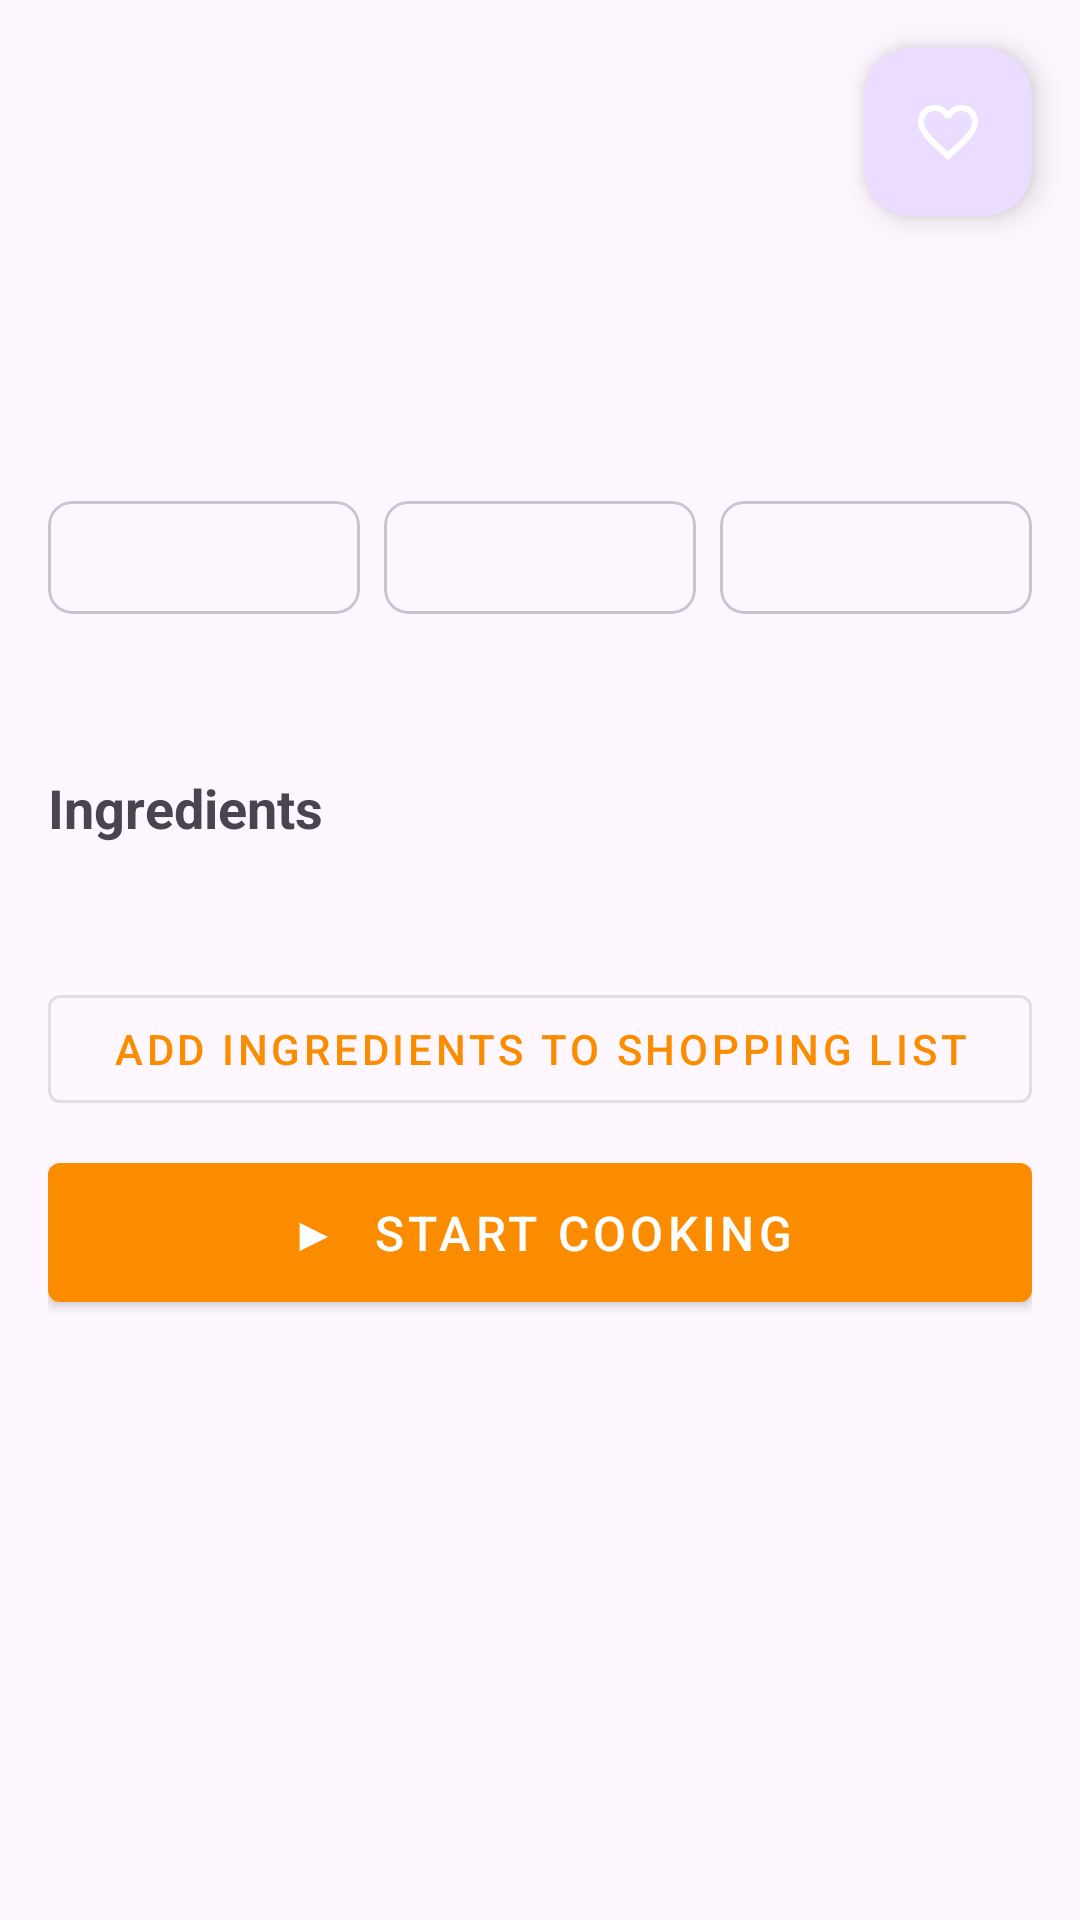

Where to tap for icons on this 1080 x 1920 app screen, as (x,y):
favourite: (948,132)
